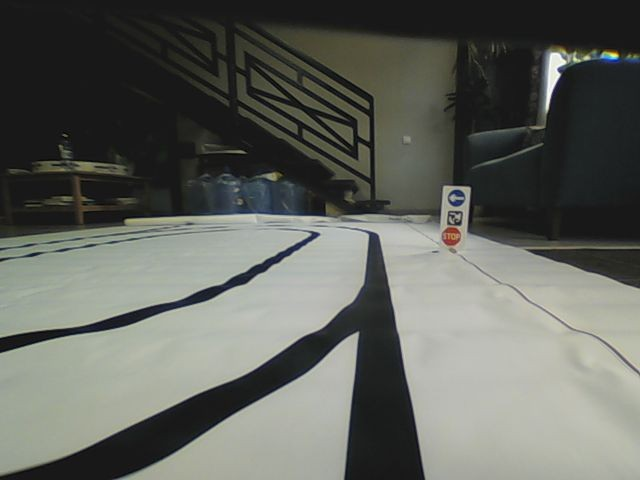Stop: (441, 228, 462, 247)
